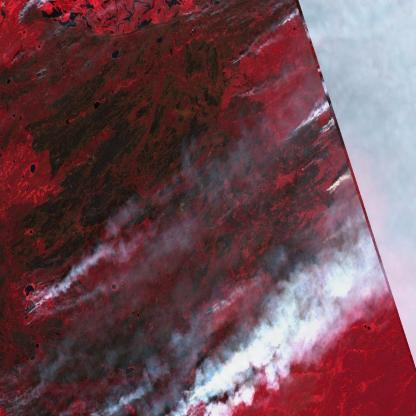fire: (258, 6, 288, 54), (25, 292, 43, 317), (227, 52, 242, 70), (323, 185, 339, 201), (236, 89, 254, 103), (284, 124, 303, 135), (315, 129, 326, 140)
